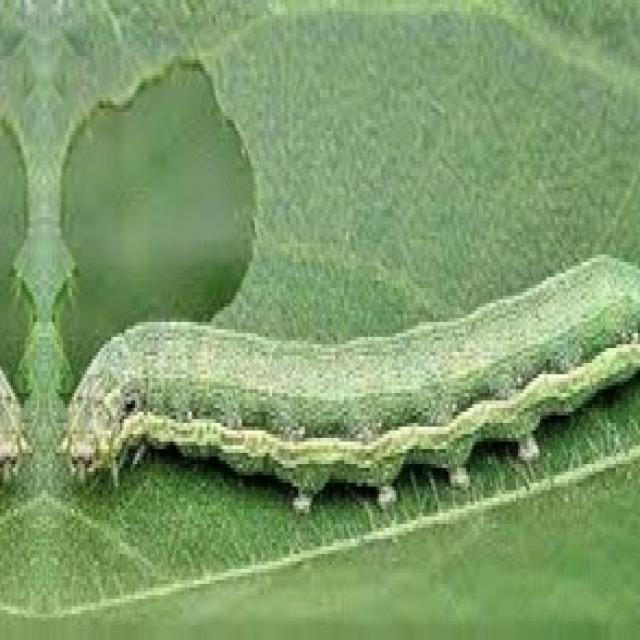armyworm: (59, 247, 638, 513)
